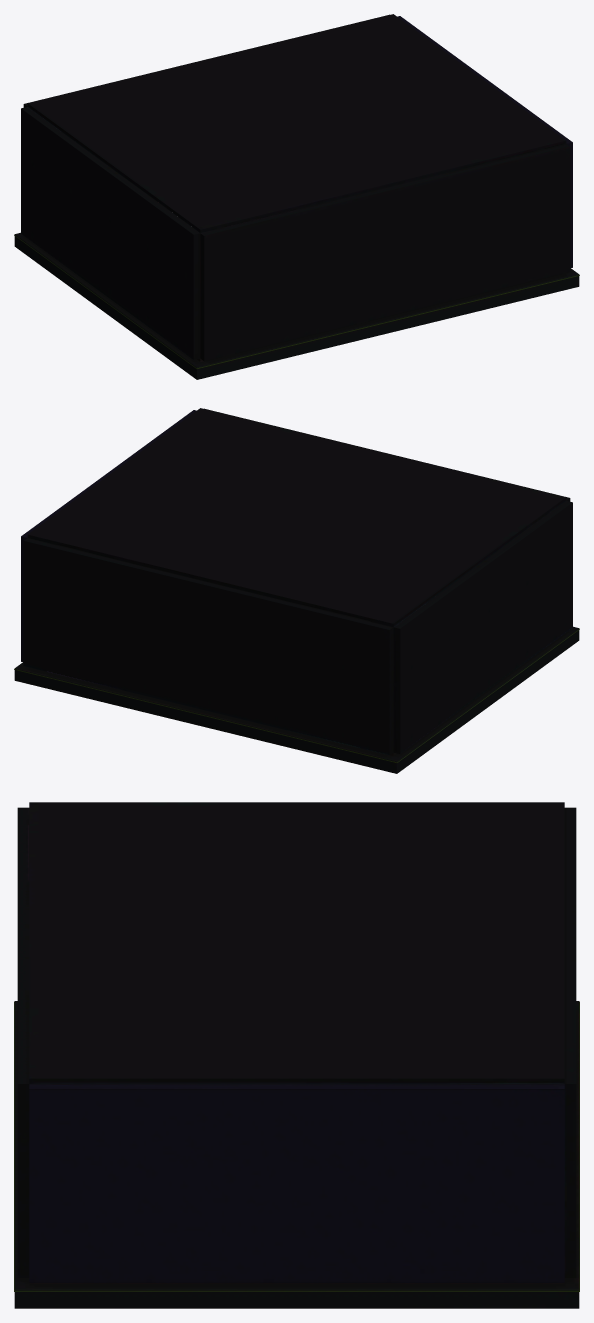
File: games.glb
3 renders of one model, top to bottom at view 1: azimuth 30°, elevation 25°; view 2: azimuth 150°, elevation 25°; view 3: azimuth 270°, elevation 25°, orthographic. The views are drawn at different scales.
Visible parts, largest first — view 1: bake_ceiling, bake_wall_front, bake_wall_left, bake_floor, bake_wall_right; view 2: bake_ceiling, bake_wall_back, bake_wall_left, bake_floor, bake_wall_right; view 3: bake_ceiling, bake_wall_right, bake_floor, bake_wall_back, bake_wall_front.
Boxes of the visible parts, bbox=[...] form: bake_ceiling: bbox=[27, 14, 566, 233]; bake_wall_front: bbox=[200, 144, 570, 361]; bake_wall_left: bbox=[21, 107, 200, 359]; bake_floor: bbox=[14, 232, 579, 379]; bake_wall_right: bbox=[397, 16, 572, 268]; bake_ceiling: bbox=[27, 408, 566, 627]; bake_wall_back: bbox=[23, 538, 393, 755]; bake_wall_left: bbox=[393, 501, 572, 753]; bake_floor: bbox=[14, 626, 579, 773]; bake_wall_right: bbox=[21, 410, 196, 662]; bake_ceiling: bbox=[29, 802, 564, 1083]; bake_wall_right: bbox=[29, 1084, 564, 1282]; bake_floor: bbox=[14, 1001, 579, 1308]; bake_wall_back: bbox=[564, 807, 576, 1277]; bake_wall_front: bbox=[17, 807, 29, 1277].
Bounding box in the file's own units: 11.52 × 4.16 × 9.52.
Materials: 29 (18 with a texture image).
